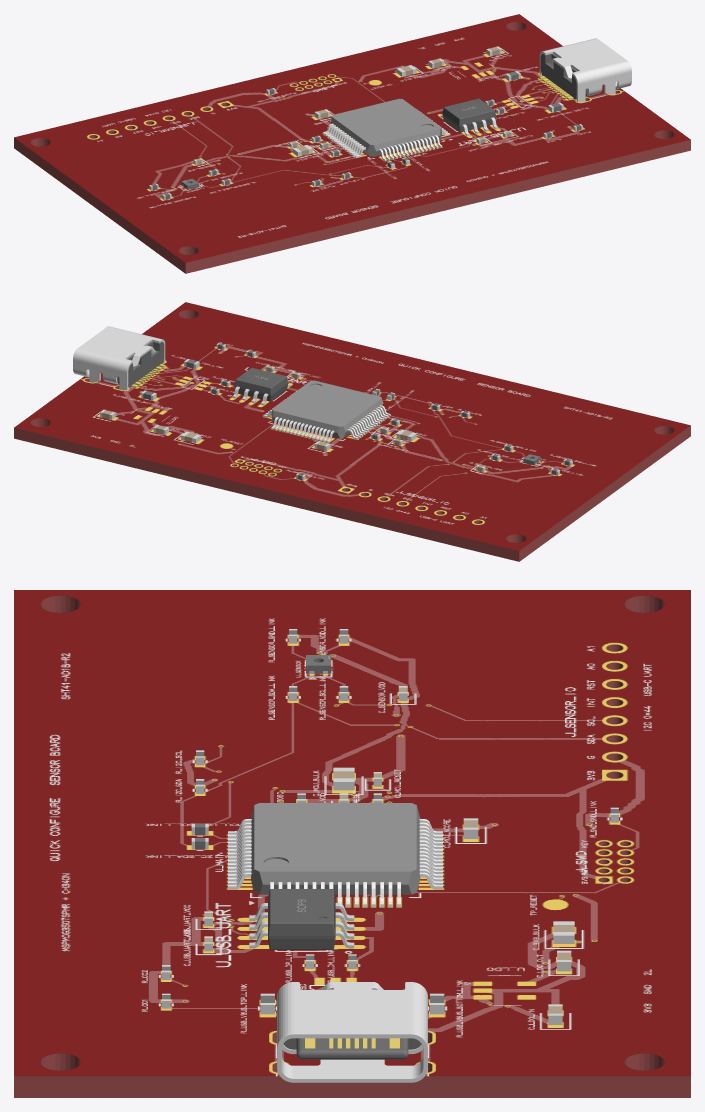
The picture shows the model from 3 angles, top to bottom: view 1: azimuth 30°, elevation 25°; view 2: azimuth 150°, elevation 25°; view 3: azimuth 270°, elevation 25°; orthographic projection. The views are drawn at different scales.
Visible parts, largest first — view 1: Box0, U_MAIN, J_USB, U_USB_UART; view 2: Box0, U_MAIN, J_USB, U_USB_UART; view 3: Box0, U_MAIN, J_USB, U_USB_UART.
Boxes of the visible parts, box(x1,y1,x2,y2) form: Box0: box(14, 14, 690, 273); U_MAIN: box(322, 98, 450, 161); J_USB: box(539, 38, 631, 102); U_USB_UART: box(440, 98, 498, 135); Box0: box(14, 302, 690, 561); U_MAIN: box(263, 380, 390, 442); J_USB: box(73, 326, 165, 390); U_USB_UART: box(232, 368, 290, 404); Box0: box(14, 590, 690, 1097); U_MAIN: box(228, 803, 442, 907); J_USB: box(277, 982, 427, 1082); U_USB_UART: box(249, 889, 354, 949).
Bounding box in the file's own units: 69.04 × 4.65 × 40.
Materials: 20 (2 with a texture image).
